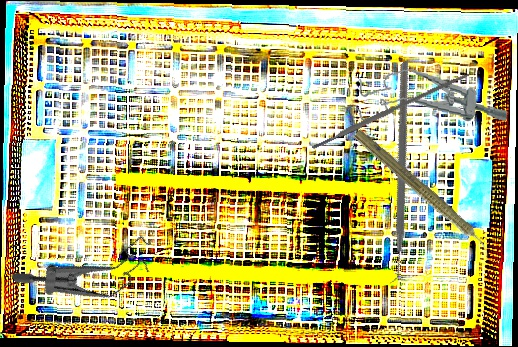Chopper: (288, 59, 501, 290)
Handpiece: (348, 126, 500, 263)
Scalpel Handle: (310, 70, 471, 151)
Speculum: (10, 196, 166, 340), (354, 64, 511, 134)
